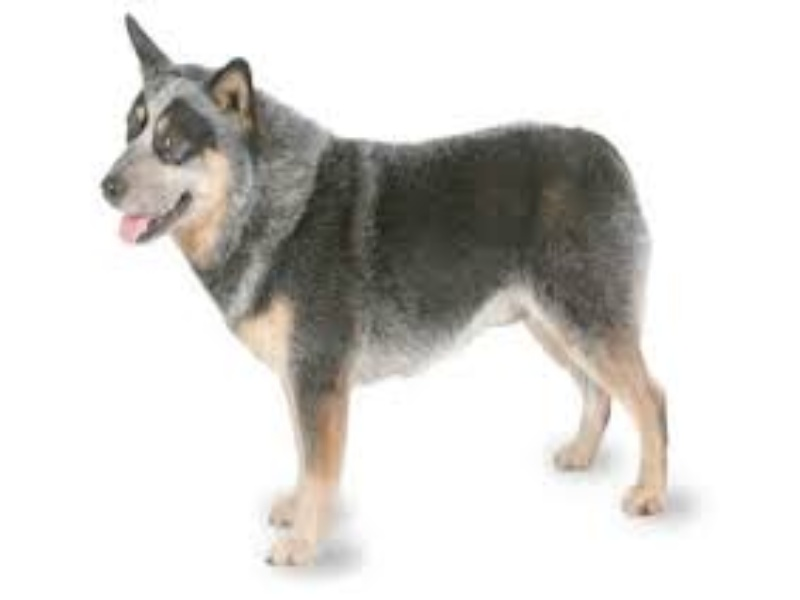dog: (101, 8, 684, 580)
